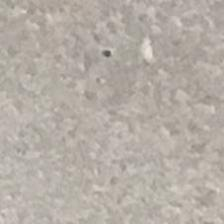Non_Crack: (20, 10, 224, 183)
